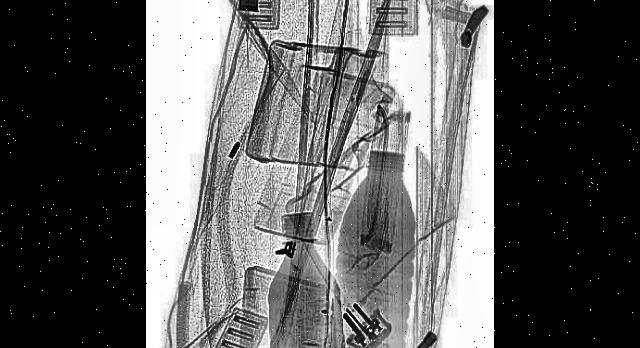Gun: (346, 297, 448, 348)
